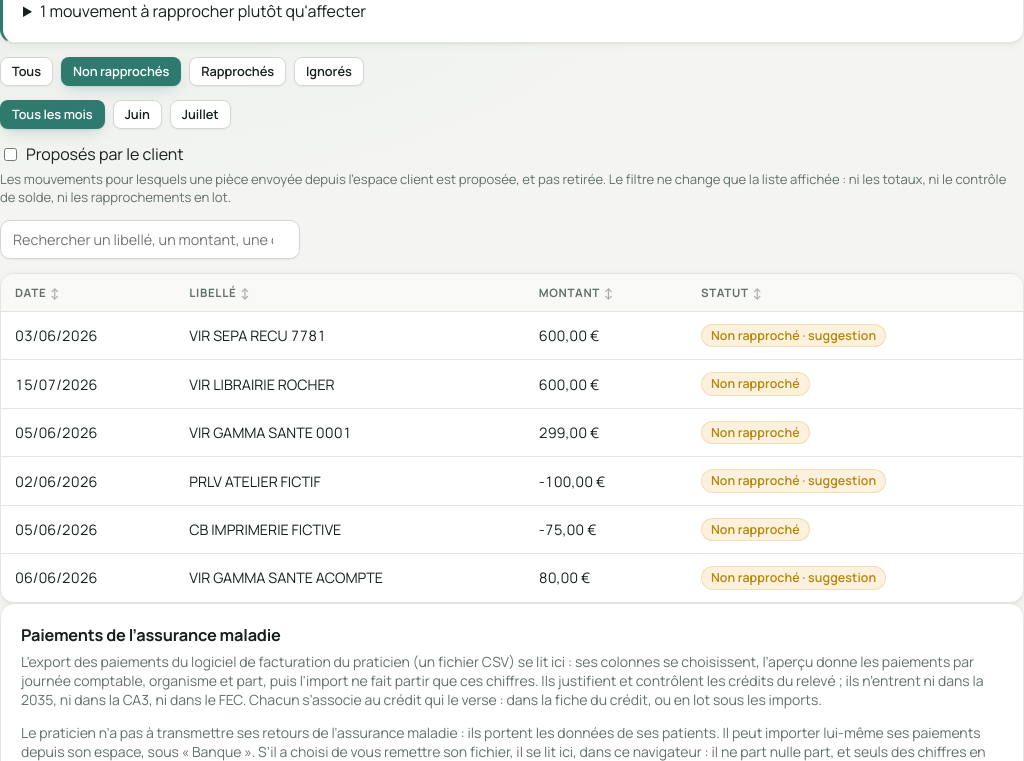
la fiche d’un crédit libre : les candidats en tête, rien sans le clic › la facture source ouverte : sa carte, ses deux signaux ; le clic ouvre sa fenêtre, ce crédit imposé, sans rien écrire
(page scrolled)
Click the row "15/07/2026 VIR LIBRAIRIE ROCHER 600,00 € Non rapproché" at coordinates (512, 384), box [1,360,1023,408]
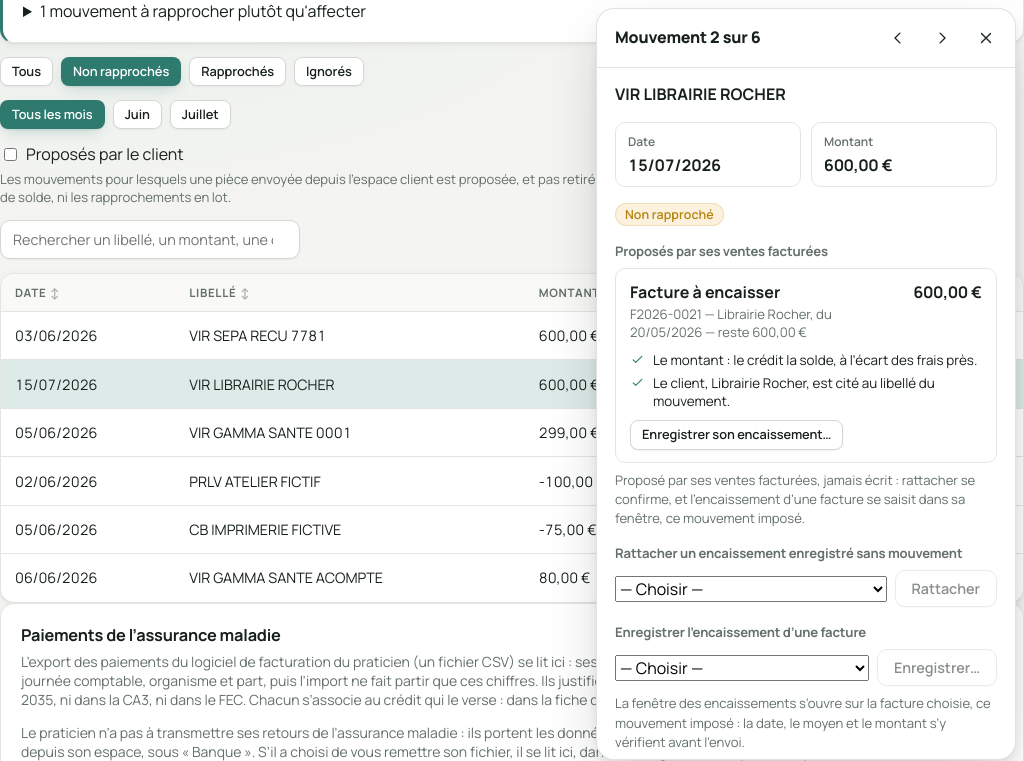
Now the element "Proposés par ses ventes facturées" shows "Facture à encaisser", box [630,281,780,303]
Now the element "Proposés par ses ventes facturées" shows "F2026-0021 — Librairie Rocher, du 20/05/2026 — reste 600,00 €", box [630,305,832,341]
Now the element "Proposés par ses ventes facturées" shows "Le montant : le crédit la solde, à l’écart des frais près.", box [653,351,977,369]
Click the button "Enregistrer son encaissement…" at coordinates (737, 435), box [630,420,843,450]
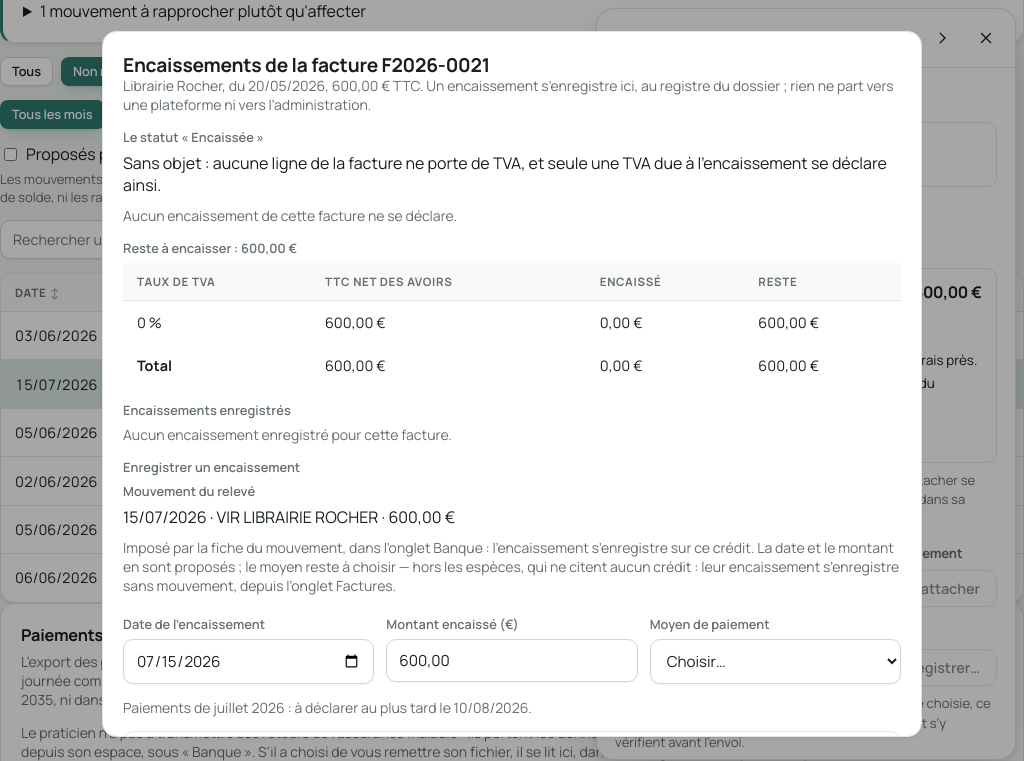
Now the heading "Encaissements de la facture F2026-0021" is shown, box [123,52,490,78]
Now the text "15/07/2026 · VIR LIBRAIRIE ROCHER · 600,00 €" is shown, box [123,506,455,528]
